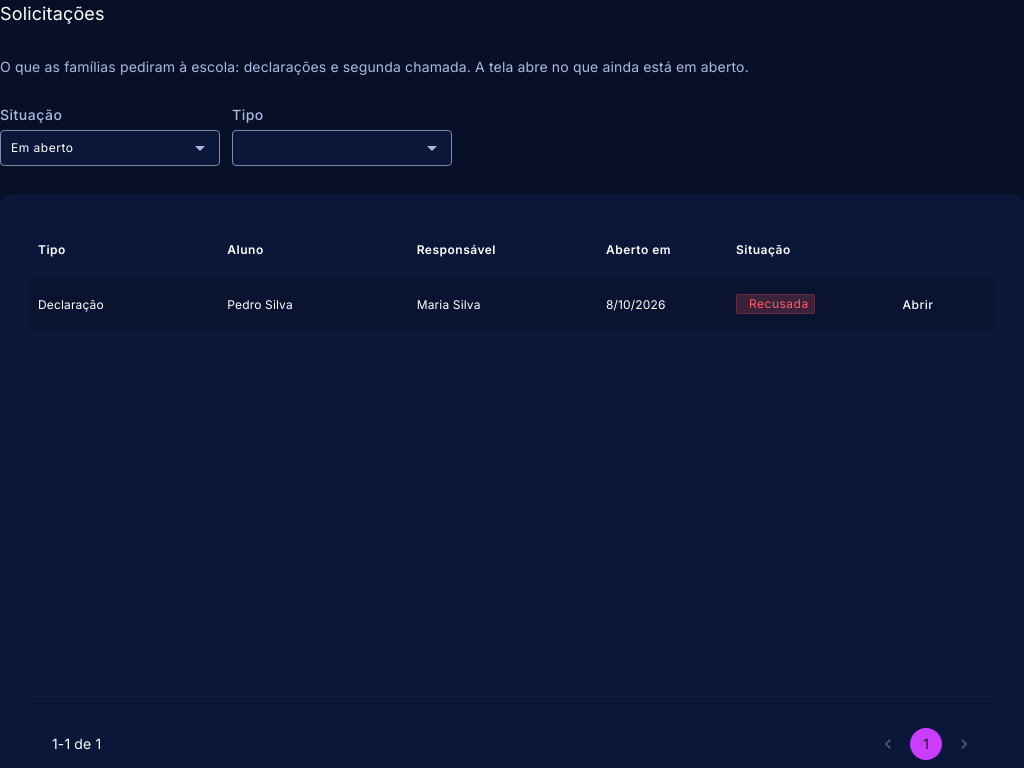
Scenario: Solicitações queue › shows the answer rather than the box once it is answered
Click the button "Abrir". click: x=918, y=304
box: [886,287,950,322]
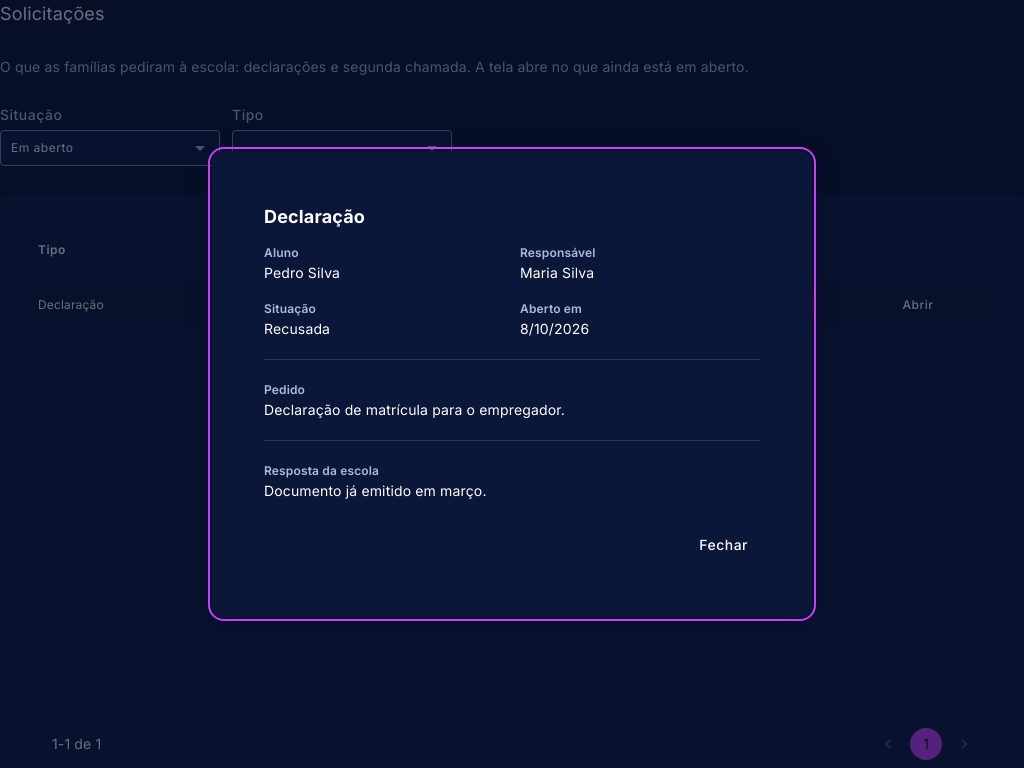
Check: the text "Documento já emitido em março." is shown, box [264,482,487,499]
